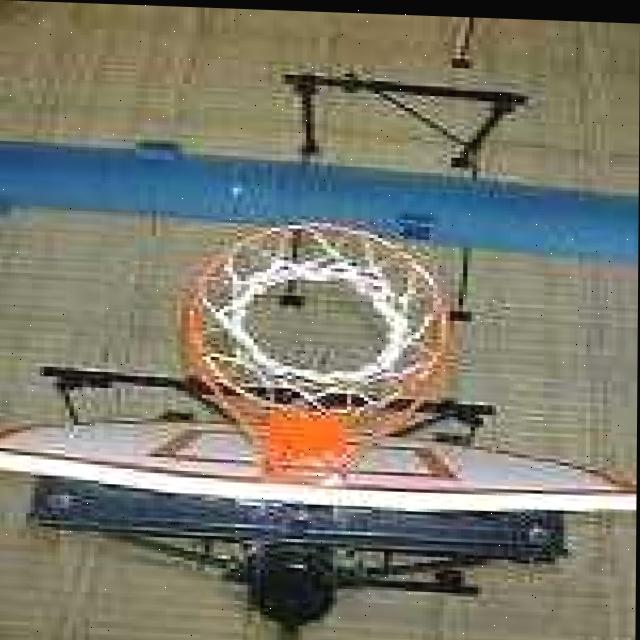hoop: (158, 205, 460, 499)
